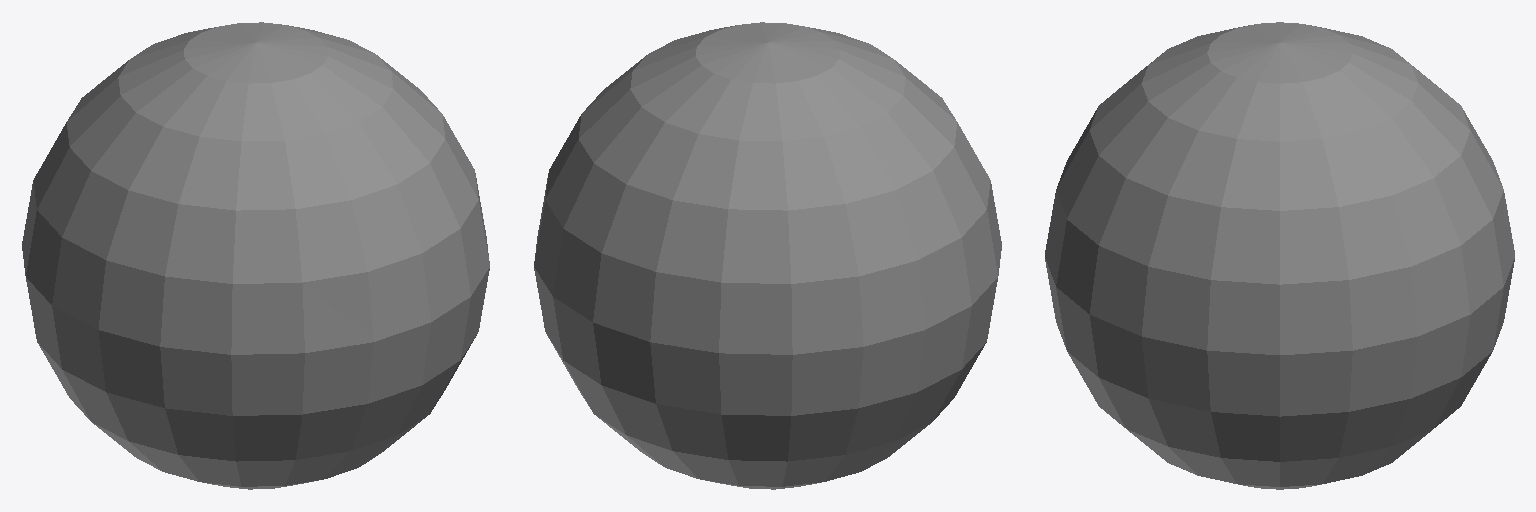
Rendered from sampleSphere_lowpoly.obj.
3 renders of one model, left to right at view 1: azimuth 30°, elevation 25°; view 2: azimuth 150°, elevation 25°; view 3: azimuth 270°, elevation 25°, orthographic.
Visible parts, largest first — view 1: Sphere001; view 2: Sphere001; view 3: Sphere001.
Part boxes in pixels (x1,y1,x2,y2): Sphere001: (22, 22, 489, 489); Sphere001: (534, 22, 1001, 489); Sphere001: (1045, 22, 1514, 489).
Bounding box in the file's own units: 2 × 2 × 2.